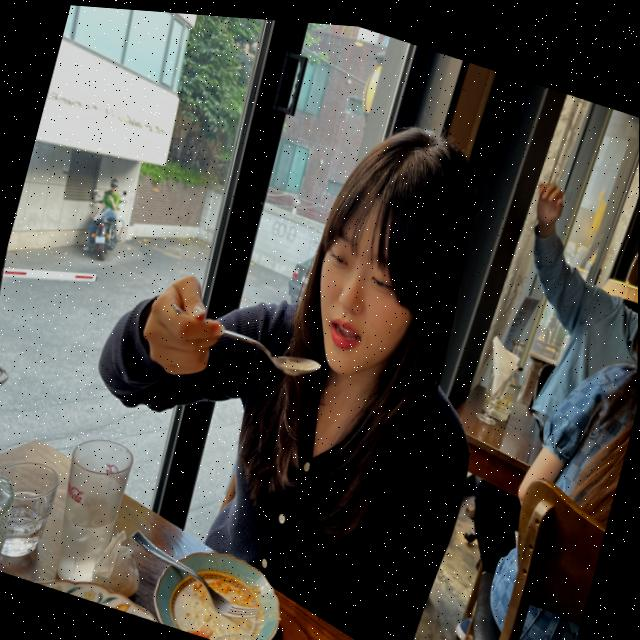eating-person: (39, 3, 571, 640)
